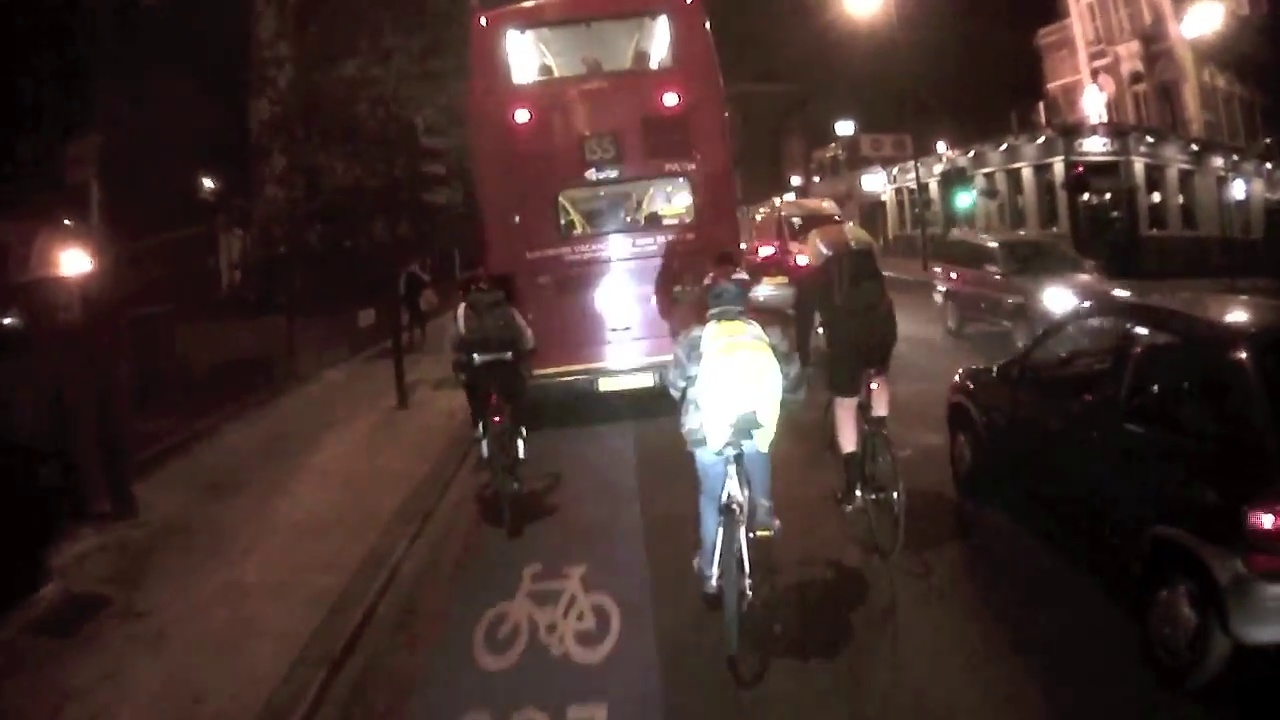cyclist_back: (667, 267, 783, 656), (790, 209, 912, 564), (452, 268, 542, 543)
